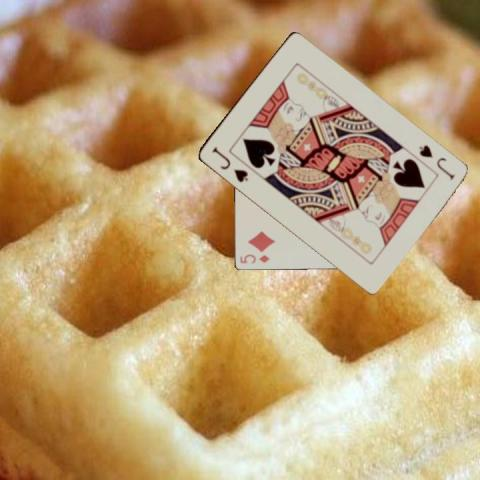5d: (236, 252, 270, 265)
Js: (208, 144, 249, 184), (415, 142, 457, 181)
